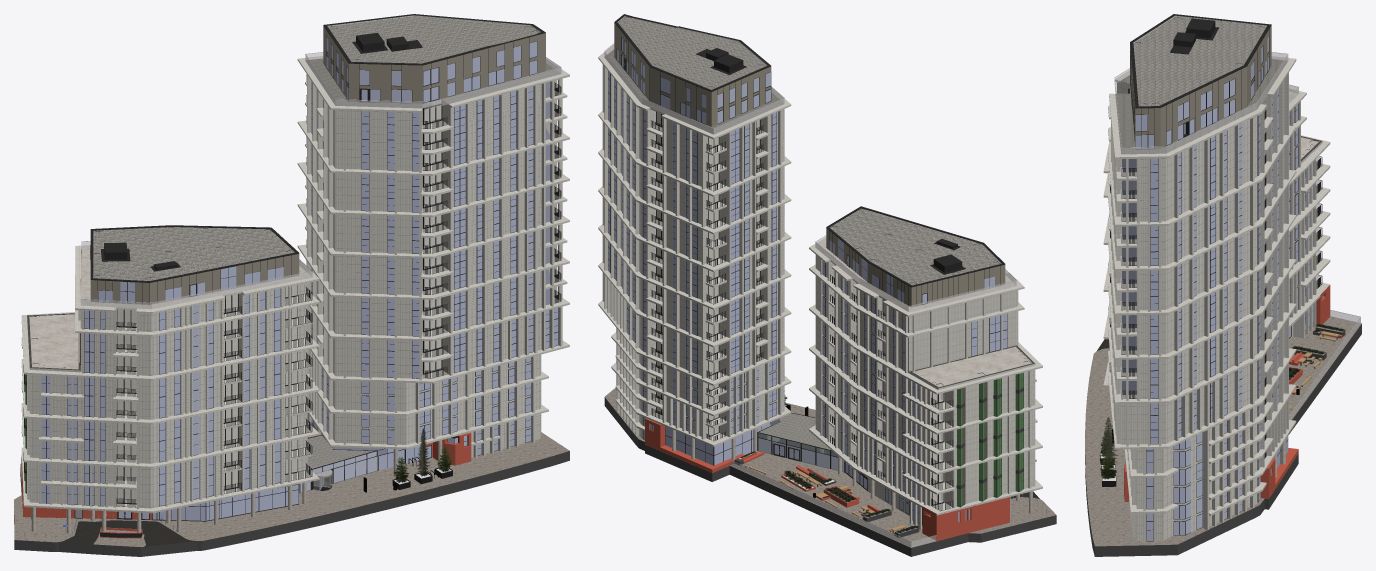
3 views of the same model, side by side, from view 1: azimuth 30°, elevation 25°; view 2: azimuth 150°, elevation 25°; view 3: azimuth 270°, elevation 25° (orthographic). The views are drawn at different scales.
Visible parts, largest first — view 1: Cube.001, Cube, Cube.024, Cube.028, castle wraft, Cube.040, Cube.041, Cube.013, Cube.009, Plane.019, Plane.004, Cube.003 (+12 smaller); view 2: Cube.024, Cube.001, Cube, Cube.028, Cube.040, Cube.041, castle wraft, Cube.043, Cube.013, Plane.004, Plane.019, Cube.042 (+14 smaller); view 3: Cube.024, Cube, Cube.040, castle wraft, Cube.028, Cube.001, Cube.043, Cube.025, Plane.019, Plane.004, Cube.013, Cube.026 (+5 smaller).
Boxes of the visible parts, <box> form: Cube.001: <box>21,245,319,513</box>; Cube: <box>305,58,561,470</box>; Cube.024: <box>297,56,569,449</box>; Cube.028: <box>311,82,558,455</box>; castle wraft: <box>14,432,569,556</box>; Cube.040: <box>101,14,545,271</box>; Cube.041: <box>90,225,299,304</box>; Cube.013: <box>80,288,280,506</box>; Cube.009: <box>41,310,105,506</box>; Plane.019: <box>21,52,561,466</box>; Plane.004: <box>306,74,561,378</box>; Cube.003: <box>21,456,298,521</box>; Cube.024: <box>598,44,791,446</box>; Cube.001: <box>809,237,1042,526</box>; Cube: <box>604,49,784,465</box>; Cube.028: <box>608,71,776,439</box>; Cube.040: <box>614,14,965,274</box>; Cube.041: <box>826,206,1005,307</box>; castle wraft: <box>604,388,1056,556</box>; Cube.043: <box>861,294,927,529</box>; Cube.013: <box>822,261,1007,525</box>; Plane.004: <box>651,120,764,441</box>; Plane.019: <box>604,43,1016,547</box>; Cube.042: <box>820,259,859,466</box>; Cube.024: <box>1108,56,1296,530</box>; Cube: <box>1115,59,1288,541</box>; Cube.040: <box>1130,14,1271,149</box>; castle wraft: <box>1085,316,1361,556</box>; Cube.028: <box>1150,88,1278,519</box>; Cube.001: <box>1103,88,1330,387</box>; Cube.043: <box>1289,101,1316,338</box>; Cube.025: <box>1126,158,1161,446</box>; Plane.019: <box>1114,52,1360,419</box>; Plane.004: <box>1121,110,1266,458</box>; Cube.013: <box>1289,104,1313,330</box>; Cube.026: <box>1127,449,1156,542</box>.
Bounding box in the file's own units: 90.48 × 70.59 × 39.05.
Materials: 22 (18 with a texture image).
